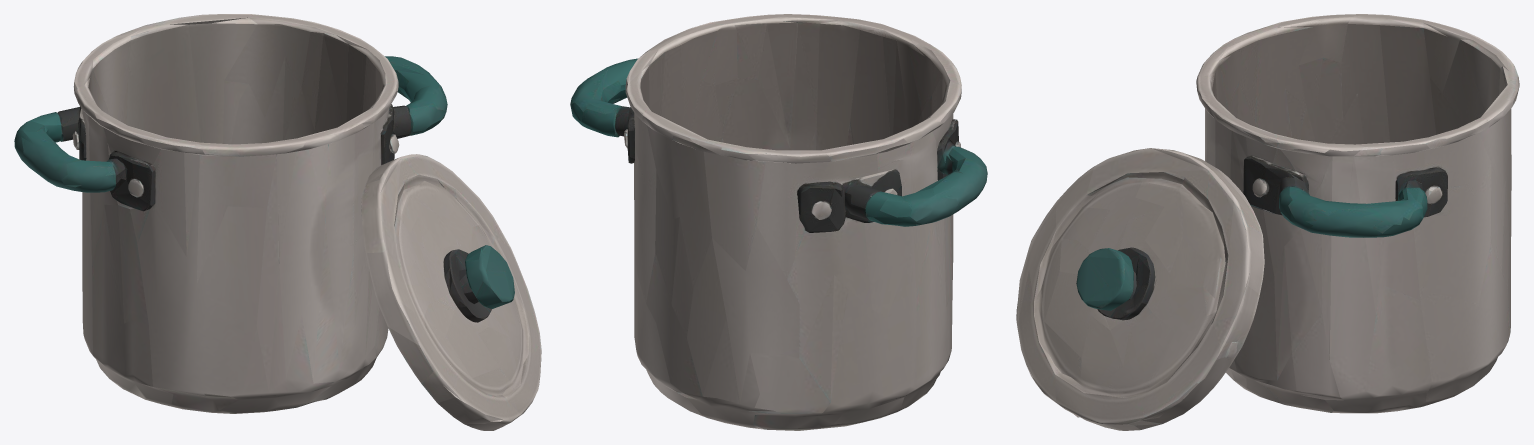
File: rounded-restaurant-stock-pot-empty.glb
3 renders of one model, left to right at view 1: azimuth 30°, elevation 25°; view 2: azimuth 150°, elevation 25°; view 3: azimuth 270°, elevation 25°, orthographic. The views are drawn at different scales.
Parts seen in each view (by area): view 1: Mesh_0; view 2: Mesh_0; view 3: Mesh_0.
Part boxes in pixels (x1,y1,x2,y2): Mesh_0: (14,14,541,430); Mesh_0: (570,14,987,430); Mesh_0: (1016,14,1519,430).
Size of the model in its own units: 0.4546 by 0.3026 by 0.5.
Materials: 1 (1 with a texture image).
